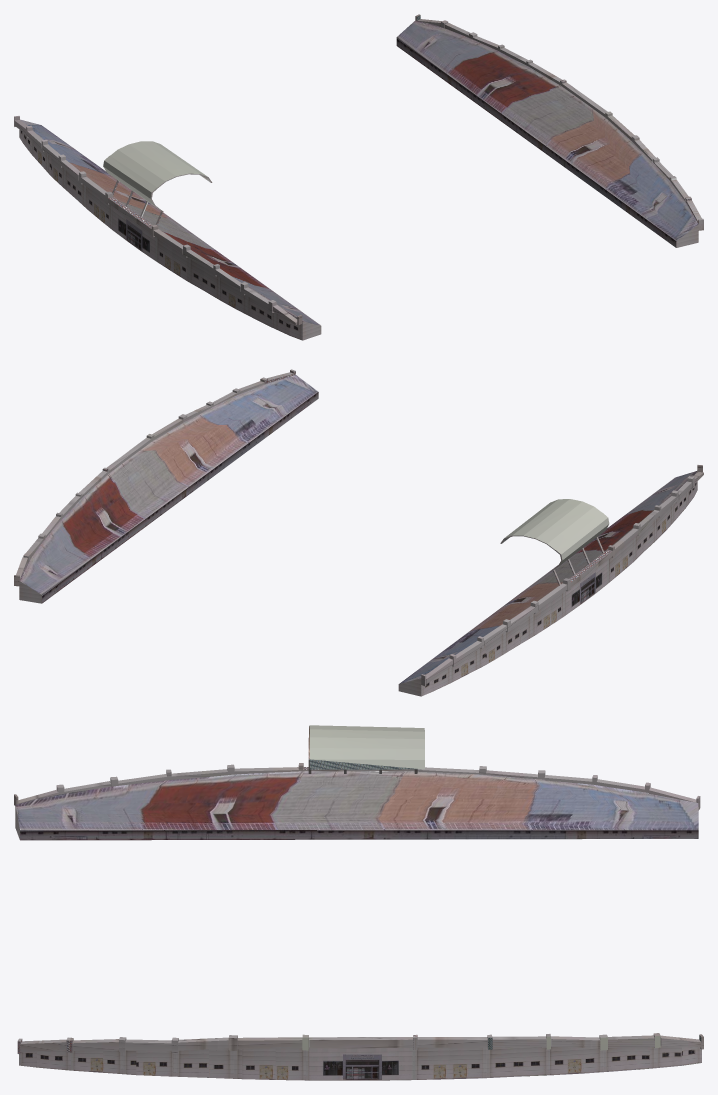
The model's file is tyc.gltf.
3 views of the same model, one above another, from view 1: azimuth 30°, elevation 25°; view 2: azimuth 150°, elevation 25°; view 3: azimuth 270°, elevation 25° (orthographic). The views are drawn at different scales.
Visible parts, largest first — view 1: Mesh07#1, Mesh10#1, Mesh02#6, skpCF7, Mesh01#6, Mesh04#2; view 2: Mesh07#1, Mesh10#1, Mesh02#6, skpCF7, Mesh04#2, Mesh01#6; view 3: Mesh10#1, Mesh07#1, Mesh02#6, Mesh04#2, Mesh01#6, skpCF7, Mesh06#1, Mesh09#1.
Part boxes in pixels (x1,y1,x2,y2): Mesh07#1: (396,20,698,247); Mesh10#1: (14,116,321,340); Mesh02#6: (103,141,212,211); skpCF7: (27,130,302,325); Mesh01#6: (444,23,562,84); Mesh04#2: (560,79,655,161); Mesh07#1: (19,375,318,603); Mesh10#1: (398,471,697,696); Mesh02#6: (500,499,609,571); skpCF7: (455,465,703,663); Mesh04#2: (102,405,211,474); Mesh01#6: (25,471,107,558); Mesh10#1: (15,764,700,840); Mesh07#1: (19,1037,701,1080); Mesh02#6: (308,725,424,769); Mesh04#2: (178,1034,417,1050); Mesh01#6: (417,1034,654,1050); skpCF7: (14,758,644,805); Mesh06#1: (72,1037,171,1051); Mesh09#1: (17,1037,73,1054).
Bounding box in the file's own units: 144 × 23.17 × 152.
5 materials, 4 textured.
